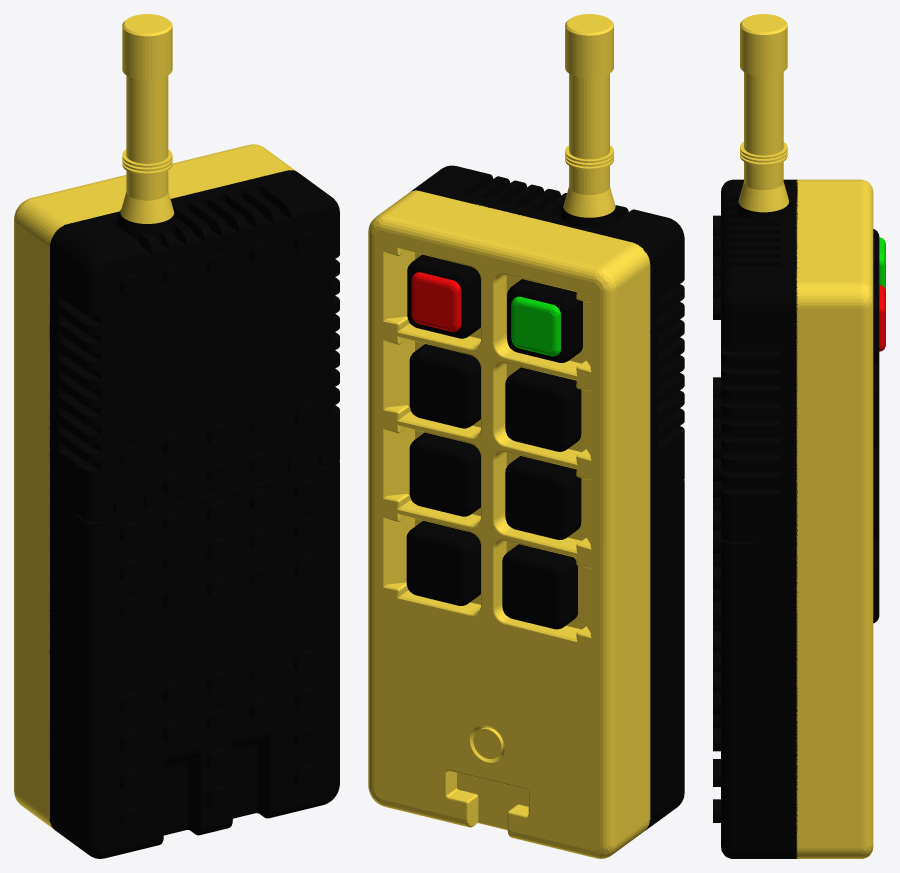
The model's file is Remote Model.fbx.
The picture shows the model from 3 angles, left to right: view 1: azimuth 30°, elevation 25°; view 2: azimuth 150°, elevation 25°; view 3: azimuth 270°, elevation 25°; orthographic projection. The views are drawn at different scales.
Visible parts, largest first — view 1: imagetostl_mesh0.005, imagetostl_mesh0.008; view 2: imagetostl_mesh0.008, imagetostl_mesh0.005, imagetostl_mesh0.012, imagetostl_mesh0.004, imagetostl_mesh0.010, imagetostl_mesh0.011, imagetostl_mesh0.003, imagetostl_mesh0.002, imagetostl_mesh0.007, imagetostl_mesh0.001, imagetostl_mesh0.006, imagetostl_mesh0.009; view 3: imagetostl_mesh0.008, imagetostl_mesh0.005, imagetostl_mesh0.011, imagetostl_mesh0.001, imagetostl_mesh0.003, imagetostl_mesh0.002, imagetostl_mesh0.006.
Part boxes in pixels (bbox=[...]): imagetostl_mesh0.005: bbox=[49, 170, 339, 858]; imagetostl_mesh0.008: bbox=[14, 14, 296, 829]; imagetostl_mesh0.008: bbox=[368, 14, 650, 858]; imagetostl_mesh0.005: bbox=[410, 165, 684, 830]; imagetostl_mesh0.012: bbox=[502, 544, 577, 629]; imagetostl_mesh0.004: bbox=[505, 367, 581, 451]; imagetostl_mesh0.010: bbox=[505, 456, 581, 539]; imagetostl_mesh0.011: bbox=[406, 520, 480, 605]; imagetostl_mesh0.003: bbox=[409, 344, 480, 428]; imagetostl_mesh0.002: bbox=[409, 432, 480, 516]; imagetostl_mesh0.007: bbox=[507, 279, 582, 362]; imagetostl_mesh0.001: bbox=[407, 254, 480, 338]; imagetostl_mesh0.006: bbox=[411, 272, 461, 331]; imagetostl_mesh0.009: bbox=[511, 296, 560, 356]; imagetostl_mesh0.008: bbox=[738, 14, 873, 858]; imagetostl_mesh0.005: bbox=[713, 179, 797, 858]; imagetostl_mesh0.011: bbox=[873, 537, 879, 623]; imagetostl_mesh0.001: bbox=[873, 276, 879, 362]; imagetostl_mesh0.003: bbox=[873, 362, 879, 448]; imagetostl_mesh0.002: bbox=[873, 448, 879, 533]; imagetostl_mesh0.006: bbox=[879, 285, 885, 351].
Bounding box in the file's own units: 1527 × 4626 × 951.
